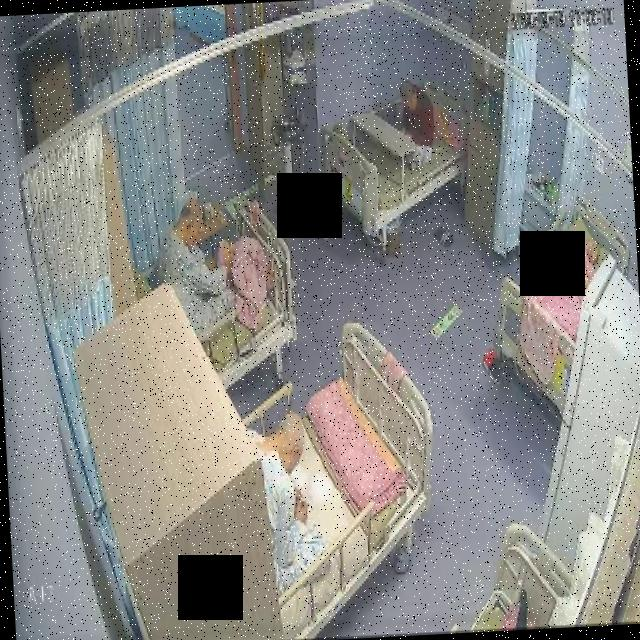bed: (233, 321, 444, 640), (487, 194, 637, 416), (156, 202, 296, 392), (323, 74, 473, 240)
patient: (250, 402, 329, 596), (155, 197, 237, 348), (392, 78, 436, 174)
sit: (154, 192, 282, 340), (250, 399, 330, 596), (392, 80, 437, 172)
